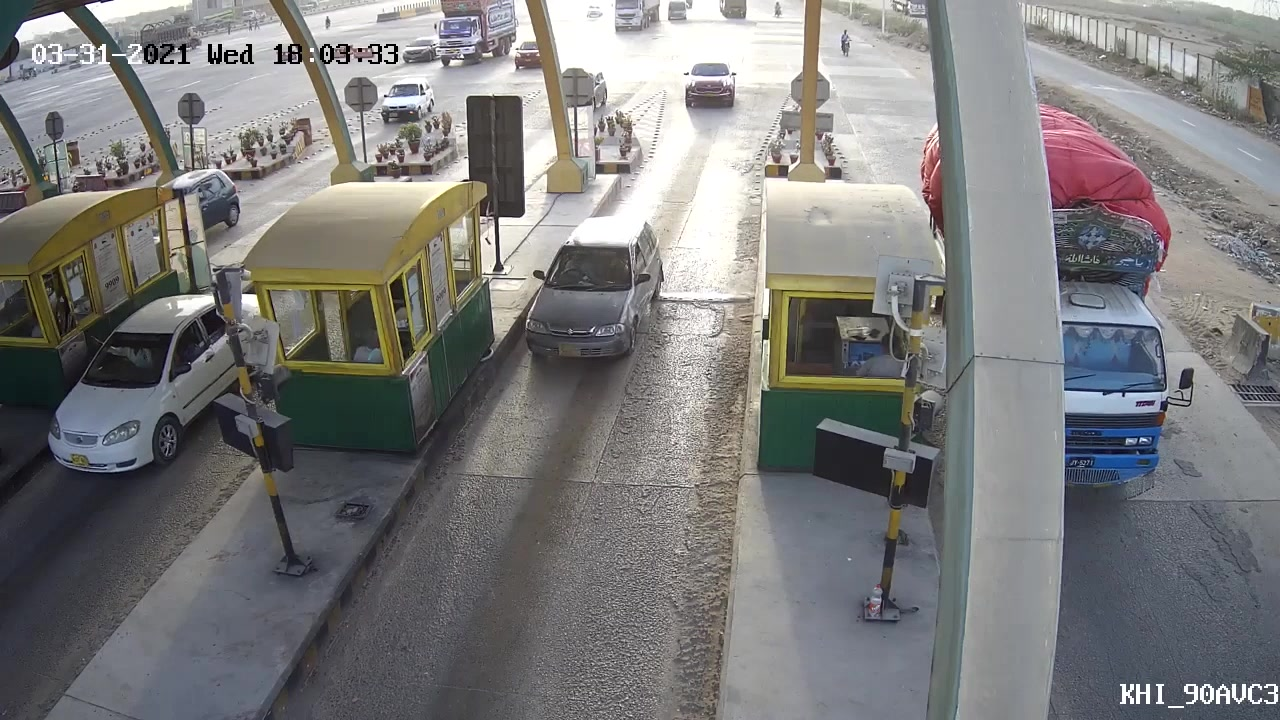F1: (515, 211, 666, 365)
